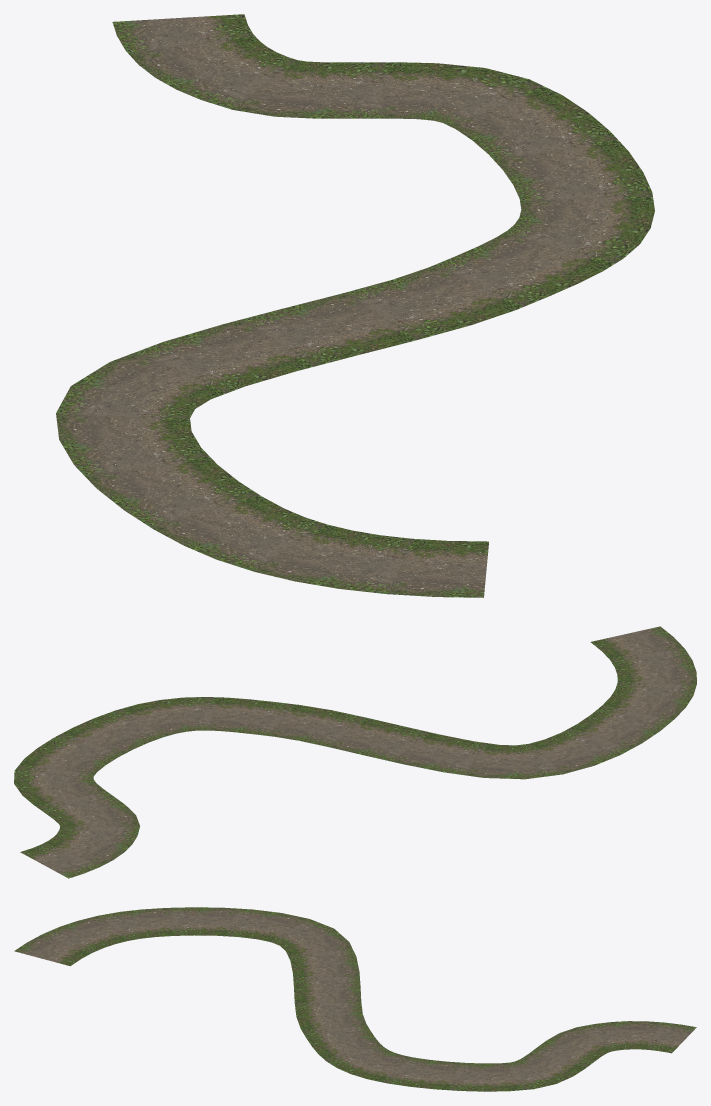
Rendered from curved_decal.FBX.
The picture shows the model from 3 angles, top to bottom: view 1: azimuth 30°, elevation 25°; view 2: azimuth 150°, elevation 25°; view 3: azimuth 270°, elevation 25°; orthographic projection. The views are drawn at different scales.
Parts seen in each view (by area): view 1: Line001; view 2: Line001; view 3: Line001.
Part boxes in pixels (left/top/right/bottom): Line001: left=56, top=14, right=654, bottom=597; Line001: left=14, top=626, right=696, bottom=878; Line001: left=14, top=907, right=696, bottom=1091.
Size of the model in its own units: 226 by 1.91e-06 by 354.
1 material, 1 textured.
